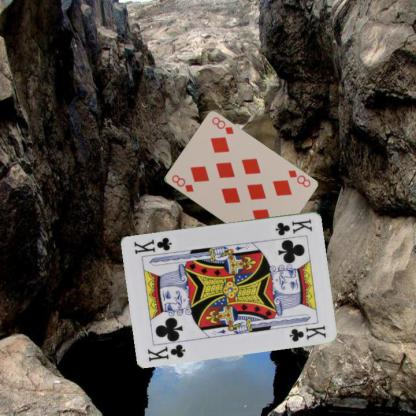8d: (168, 172, 194, 194), (286, 167, 312, 188)
Kc: (272, 216, 314, 237), (145, 342, 187, 362)
